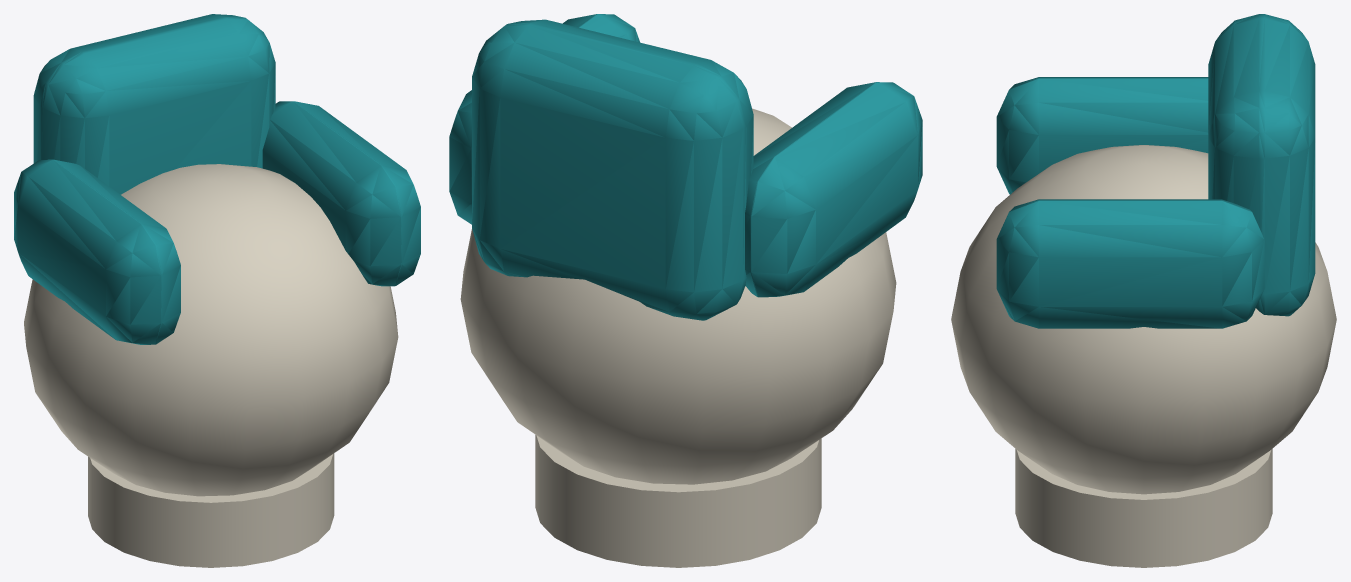
Rendered from 11_advanced_lounge_chair_right.glb.
3 views of the same model, side by side, from view 1: azimuth 30°, elevation 25°; view 2: azimuth 150°, elevation 25°; view 3: azimuth 270°, elevation 25° (orthographic). The views are drawn at different scales.
Visible parts, largest first — view 1: 11_advanced_lounge_chair_right__Static; view 2: 11_advanced_lounge_chair_right__Static; view 3: 11_advanced_lounge_chair_right__Static.
Part boxes in pixels (x1,y1,x2,y2): 11_advanced_lounge_chair_right__Static: (14,14,420,567); 11_advanced_lounge_chair_right__Static: (449,14,922,567); 11_advanced_lounge_chair_right__Static: (951,14,1336,567).
Bounding box in the file's own units: 0.74 × 0.945 × 0.72.
